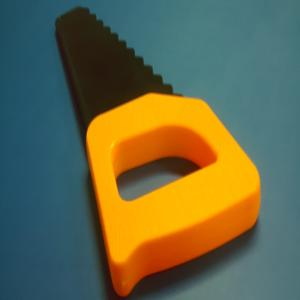serrote: (54, 6, 262, 297)
